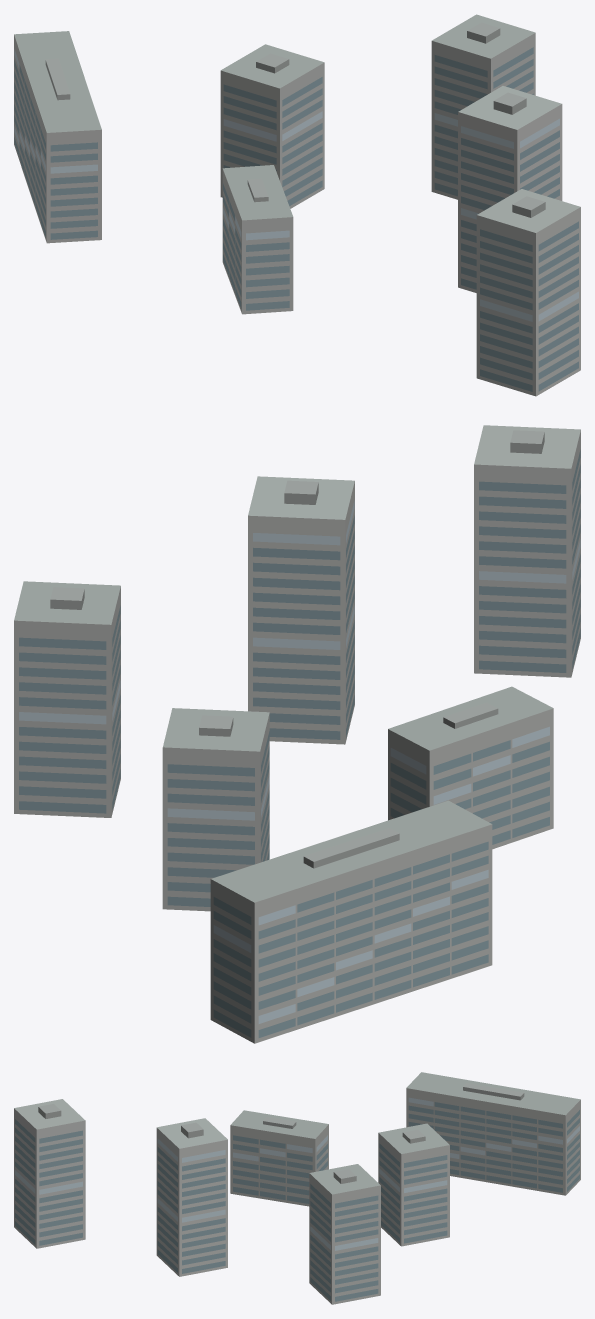
File: apt-a10023384.glb
3 renders of one model, top to bottom at view 1: azimuth 30°, elevation 25°; view 2: azimuth 150°, elevation 25°; view 3: azimuth 270°, elevation 25°, orthographic. The views are drawn at different scales.
Visible parts, largest first — view 1: apt-a10023384; view 2: apt-a10023384; view 3: apt-a10023384.
Part boxes in pixels (box(x1,y1,x2,y2)): apt-a10023384: box(14, 14, 580, 396); apt-a10023384: box(14, 425, 580, 1043); apt-a10023384: box(14, 1072, 580, 1304).
Size of the model in its own units: 105 by 43 by 165.
